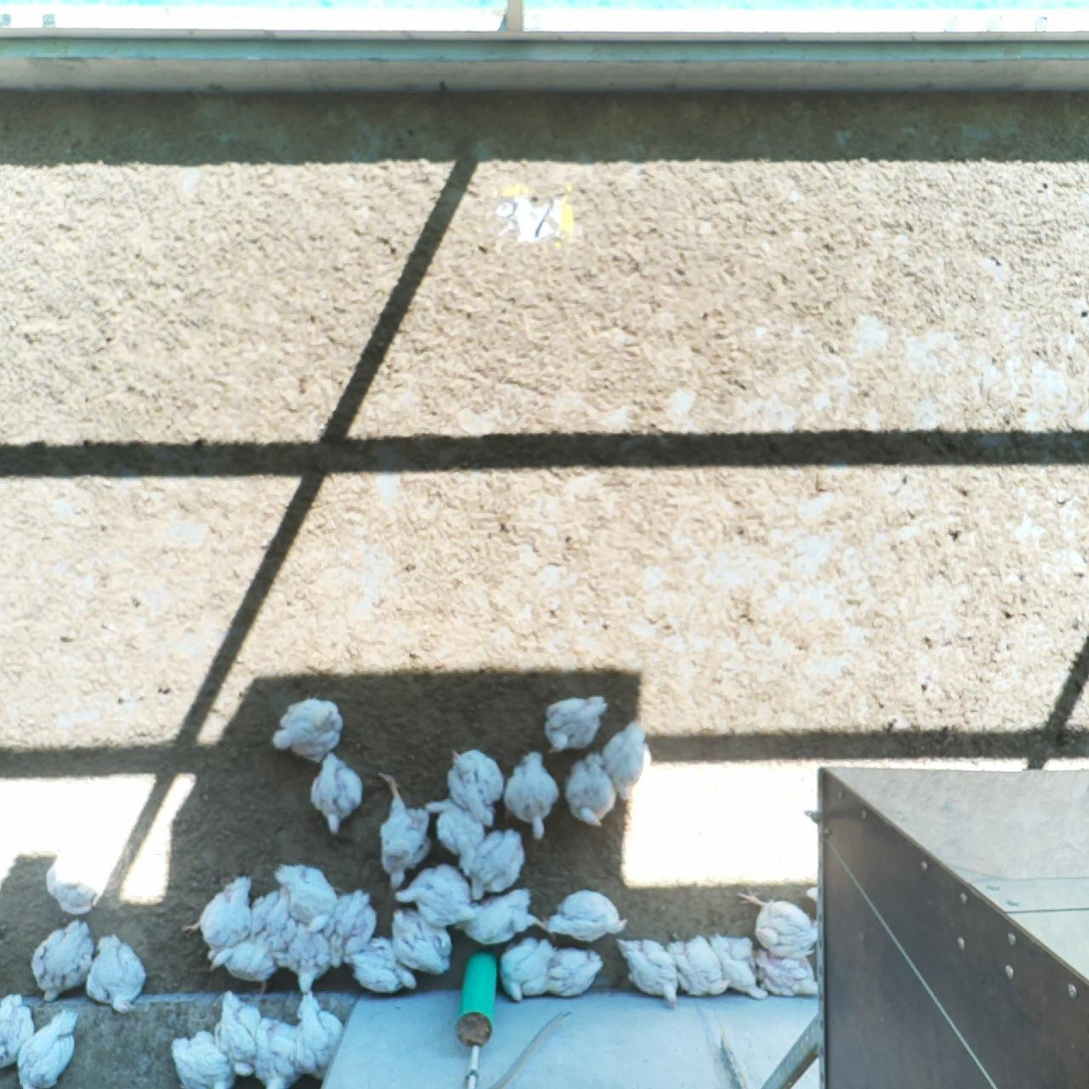chicken: (367, 773, 430, 883), (303, 754, 377, 830), (501, 750, 567, 835), (83, 936, 150, 1018), (39, 842, 111, 918), (14, 1009, 82, 1089), (26, 921, 98, 994), (442, 750, 510, 827), (597, 714, 658, 796), (275, 688, 341, 757), (207, 992, 264, 1069), (294, 985, 345, 1069), (159, 1041, 246, 1089), (404, 873, 480, 927), (562, 749, 618, 822), (551, 891, 627, 943), (459, 888, 540, 936), (621, 938, 682, 1001), (346, 938, 420, 989), (246, 1018, 306, 1080), (458, 830, 524, 886), (196, 870, 252, 934), (389, 912, 455, 966), (712, 938, 770, 997), (752, 893, 811, 951), (498, 935, 555, 989), (670, 934, 726, 988), (759, 949, 822, 996), (1, 988, 36, 1069), (535, 946, 601, 988), (280, 862, 326, 919), (550, 705, 607, 750), (322, 892, 374, 938), (269, 900, 308, 955), (442, 814, 486, 857), (214, 942, 277, 971)
